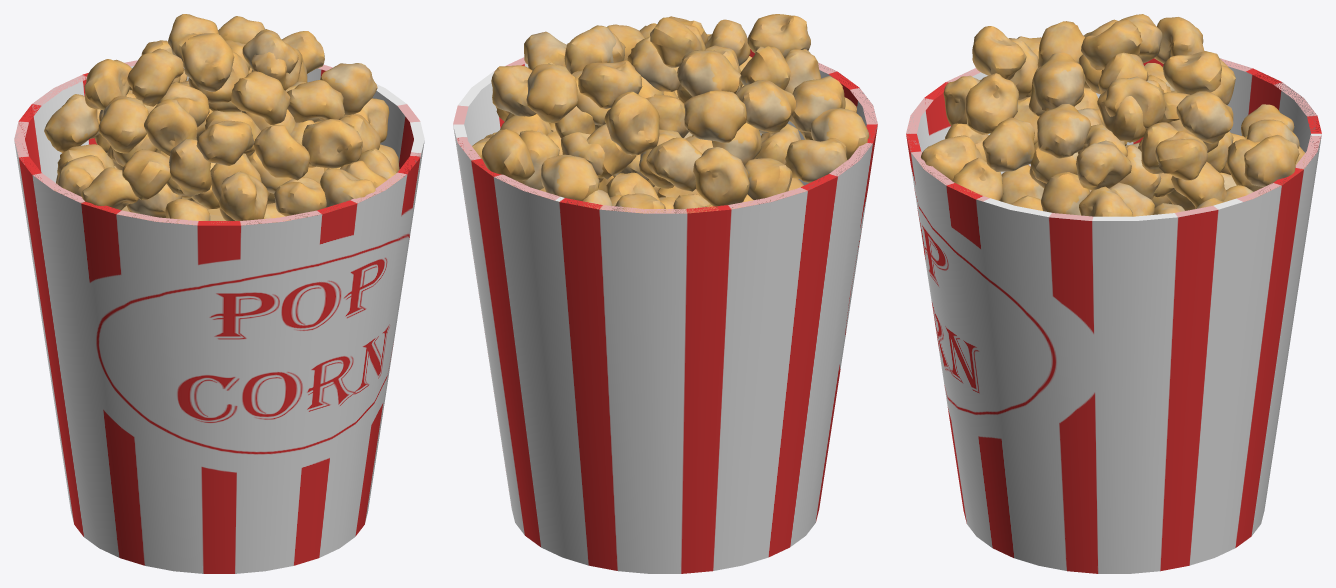
The model's file is Popcorn 1.fbx.
The picture shows the model from 3 angles, left to right: view 1: azimuth 30°, elevation 25°; view 2: azimuth 150°, elevation 25°; view 3: azimuth 270°, elevation 25°; orthographic projection. The views are drawn at different scales.
Visible parts, largest first — view 1: Popcorn; view 2: Popcorn; view 3: Popcorn.
Boxes of the visible parts, <box> form: Popcorn: <box>14,14,424,573</box>; Popcorn: <box>453,14,877,573</box>; Popcorn: <box>906,14,1321,573</box>.
Bounding box in the file's own units: 199 × 256 × 200.
